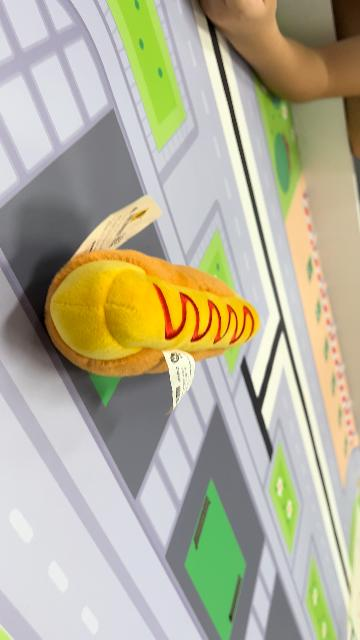hotdog: (44, 248, 260, 378)
